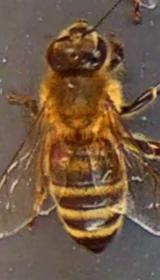varroa_mite: (37, 137, 74, 168)
